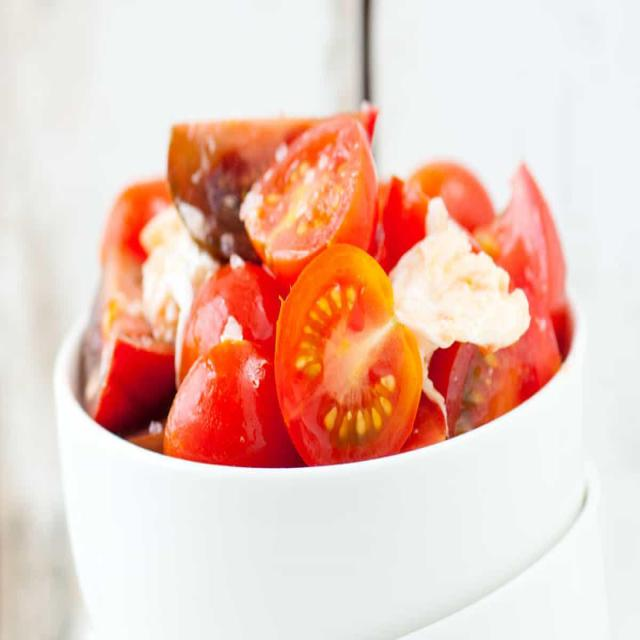Tomato: (276, 241, 421, 459), (241, 118, 380, 273), (164, 335, 284, 466)
